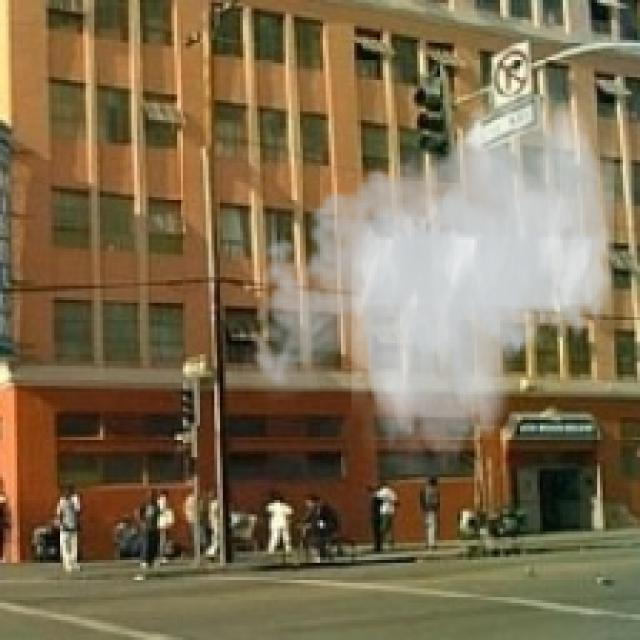smoke: (240, 69, 614, 474)
